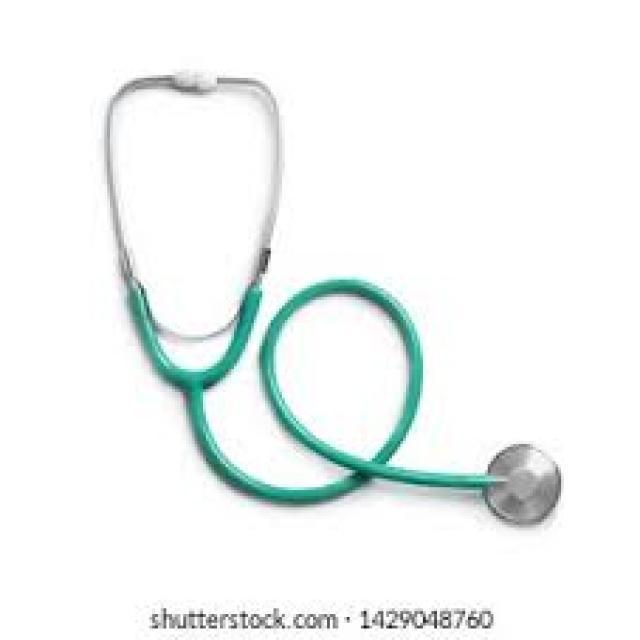stethoscope: (96, 51, 581, 558)
